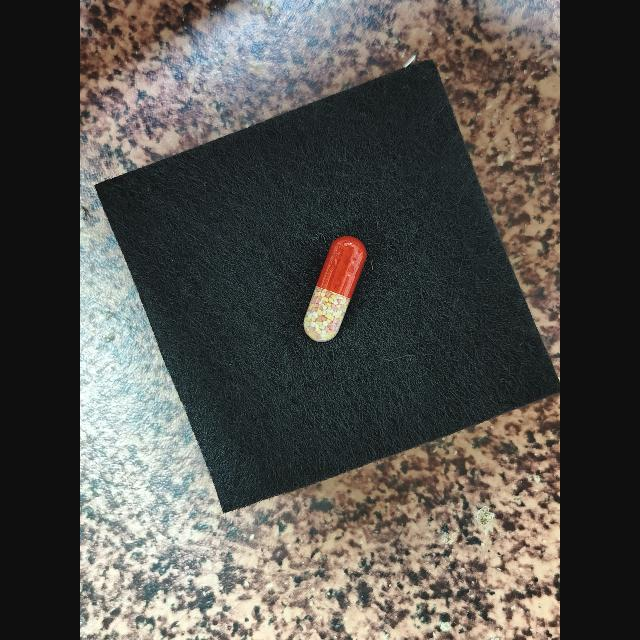Intact Capsule: (304, 236, 367, 342)
